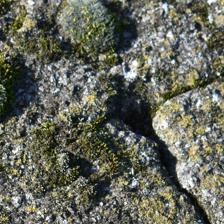Crack: (53, 48, 149, 171)
